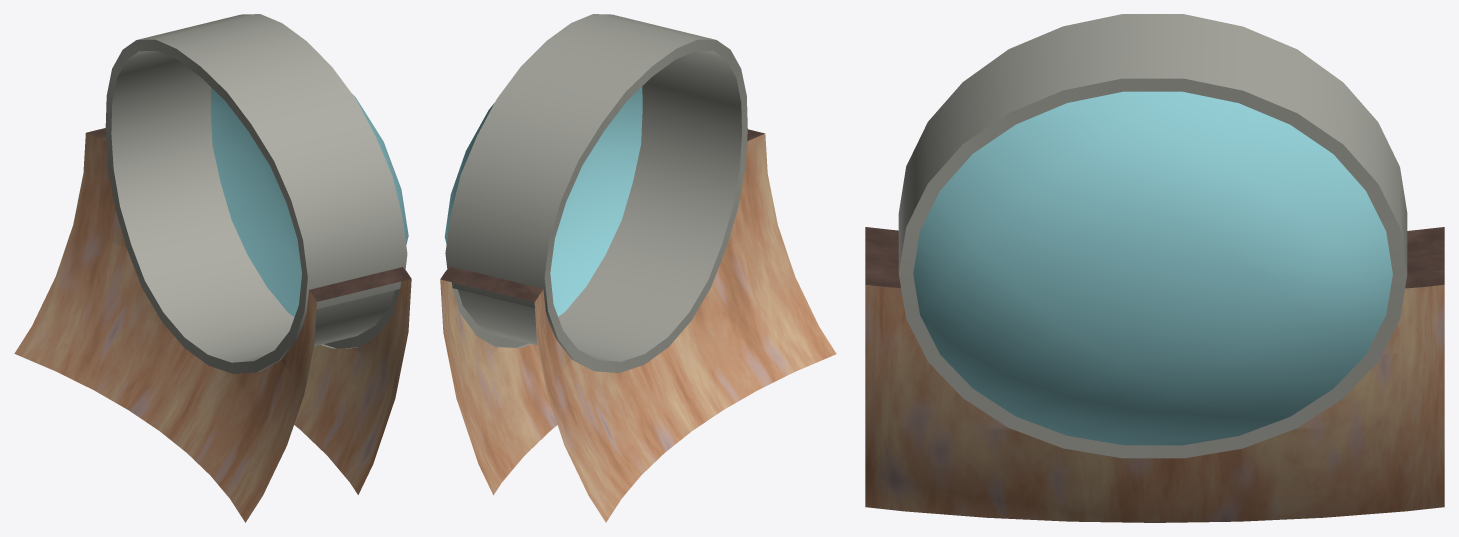
Rendered from FI_019_francos_building_wall_short_window.glb.
3 views of the same model, side by side, from view 1: azimuth 30°, elevation 25°; view 2: azimuth 150°, elevation 25°; view 3: azimuth 270°, elevation 25° (orthographic). The views are drawn at different scales.
Visible parts, largest first — view 1: window_frame_cut, wall_hole_short, glass_out_short, glass_in_short; view 2: window_frame_cut, wall_hole_short, glass_out_short, glass_in_short; view 3: glass_out_short, wall_hole_short, window_frame_cut, glass_in_short.
Part boxes in pixels (left/top/right/bottom): window_frame_cut: left=105, top=14, right=407, bottom=373; wall_hole_short: left=14, top=128, right=411, bottom=522; glass_out_short: left=210, top=87, right=408, bottom=316; glass_in_short: left=211, top=89, right=407, bottom=314; window_frame_cut: left=445, top=14, right=747, bottom=372; wall_hole_short: left=440, top=129, right=836, bottom=522; glass_out_short: left=444, top=86, right=642, bottom=316; glass_in_short: left=445, top=89, right=642, bottom=315; glass_out_short: left=913, top=91, right=1392, bottom=445; wall_hole_short: left=865, top=227, right=1444, bottom=522; window_frame_cut: left=898, top=14, right=1407, bottom=458; glass_in_short: left=913, top=91, right=1390, bottom=445.
Bounding box in the file's own units: 1.65 × 2.63 × 3.
Materials: 4 (2 with a texture image).
